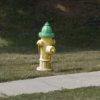Hydrant: (30, 16, 66, 79)
